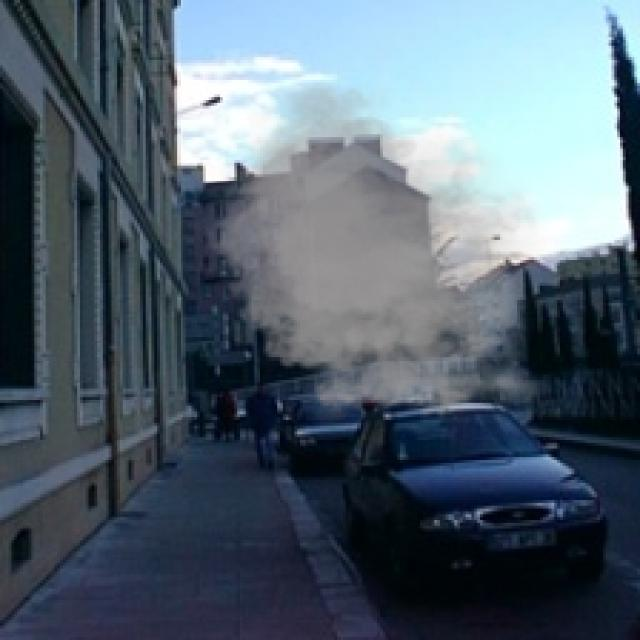smoke: (194, 72, 557, 434)
